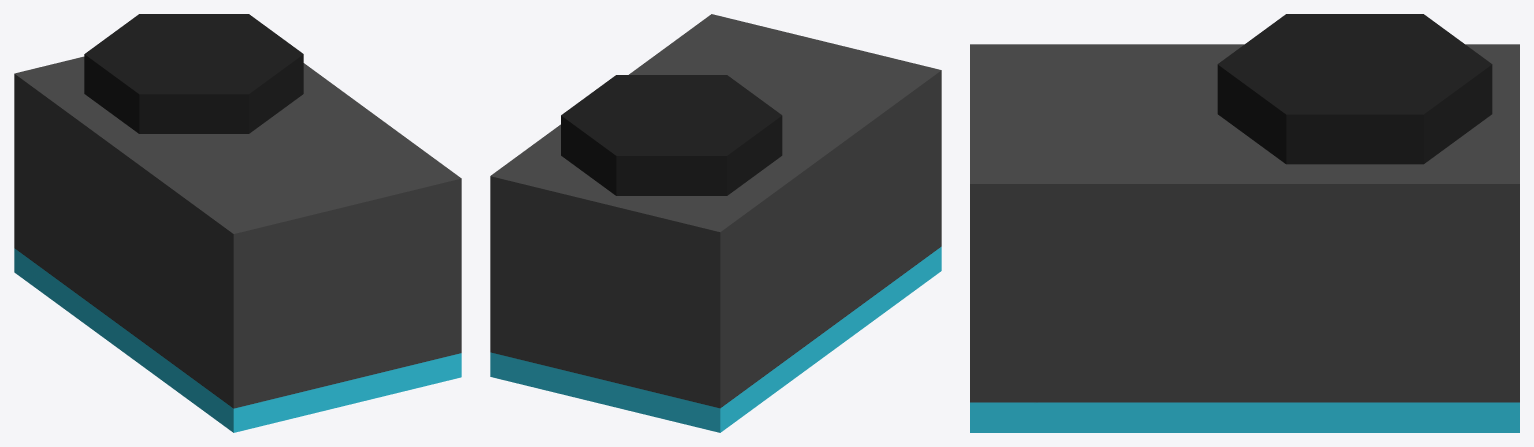
Rendered from P_Leg_L.gltf.
3 renders of one model, left to right at view 1: azimuth 30°, elevation 25°; view 2: azimuth 150°, elevation 25°; view 3: azimuth 270°, elevation 25°, orthographic. The views are drawn at different scales.
Visible parts, largest first — view 1: P_Leg_L; view 2: P_Leg_L; view 3: P_Leg_L.
Boxes of the visible parts, x1=… form: P_Leg_L: x1=14, y1=14, x2=461, y2=432; P_Leg_L: x1=490, y1=14, x2=941, y2=432; P_Leg_L: x1=970, y1=14, x2=1519, y2=432.
Size of the model in its own units: 0.3173 by 0.3173 by 0.5288.
Materials: 1 (1 with a texture image).
